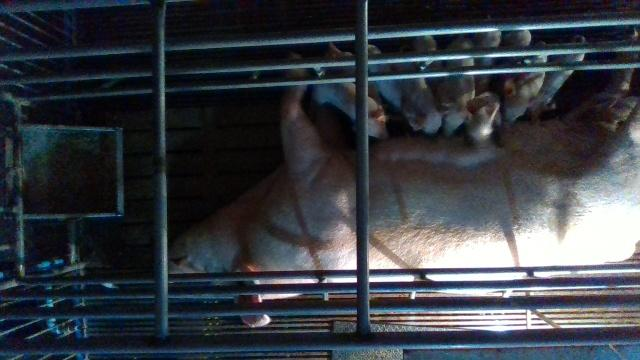piglet: (529, 37, 588, 115), (316, 83, 388, 139), (468, 32, 503, 145), (367, 44, 418, 118), (404, 59, 448, 135), (443, 35, 474, 142), (504, 45, 547, 122)
sow-sleep-lactate: (167, 54, 640, 328)
